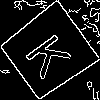K: (23, 26, 80, 81)
